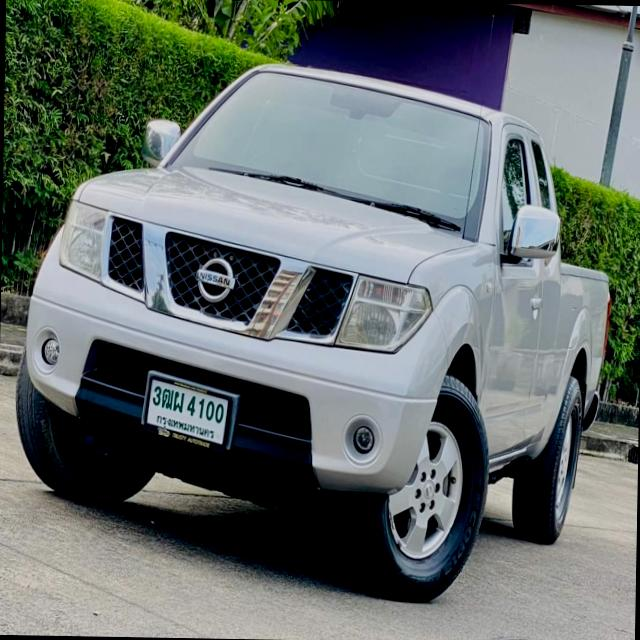license_plate: (138, 366, 238, 456)
